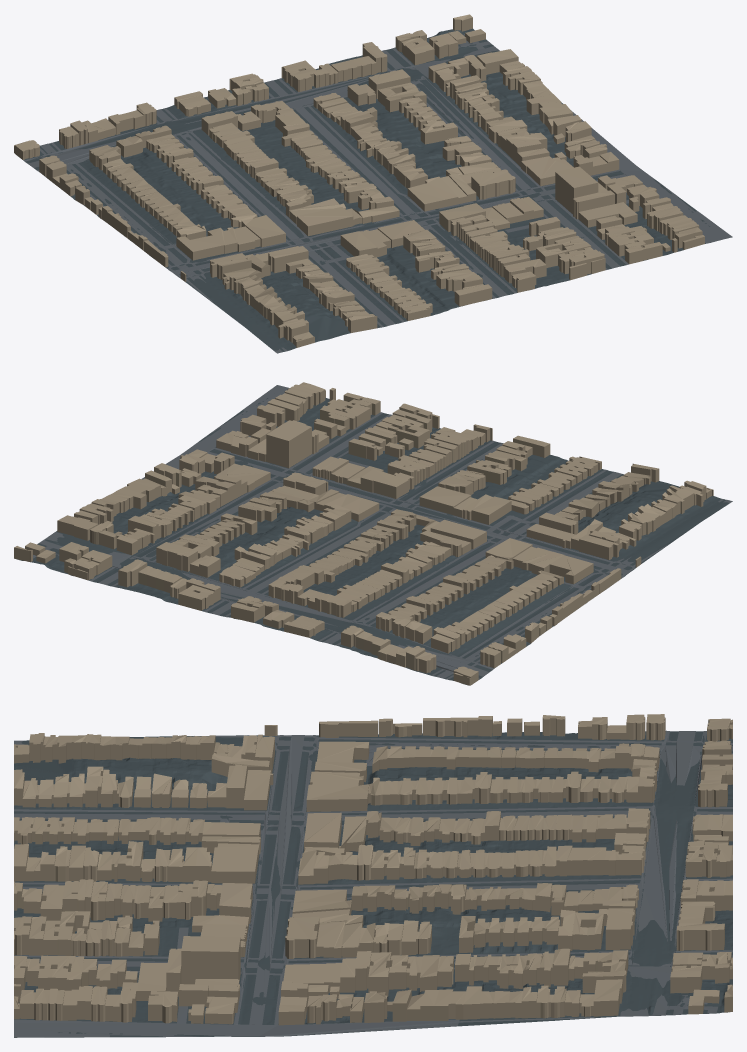
The model's file is epsg26910-1421-10884.lod0.glb.
3 renders of one model, top to bottom at view 1: azimuth 30°, elevation 25°; view 2: azimuth 150°, elevation 25°; view 3: azimuth 270°, elevation 25°, orthographic. The views are drawn at different scales.
Visible parts, largest first — view 1: epsg26910-1421-10884-lod0; view 2: epsg26910-1421-10884-lod0; view 3: epsg26910-1421-10884-lod0.
Boxes of the visible parts, box(x1,y1,x2,y2) form: epsg26910-1421-10884-lod0: box(14, 14, 732, 353); epsg26910-1421-10884-lod0: box(14, 382, 732, 685); epsg26910-1421-10884-lod0: box(14, 714, 732, 1037).
Size of the model in its own units: 384 by 29.01 by 384.
